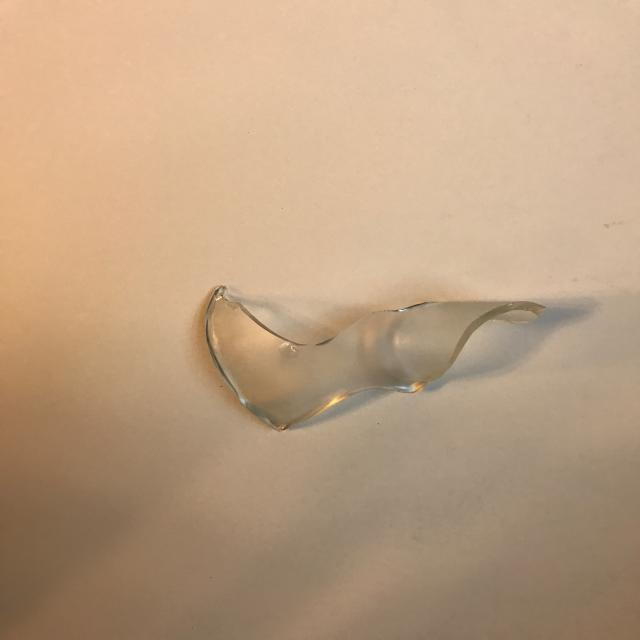glass: (204, 284, 548, 432)
